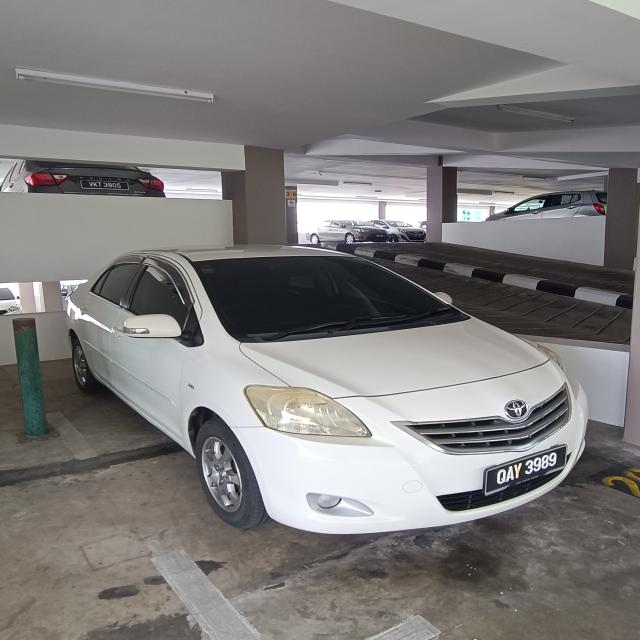ToyotaVios: (64, 243, 590, 534)
